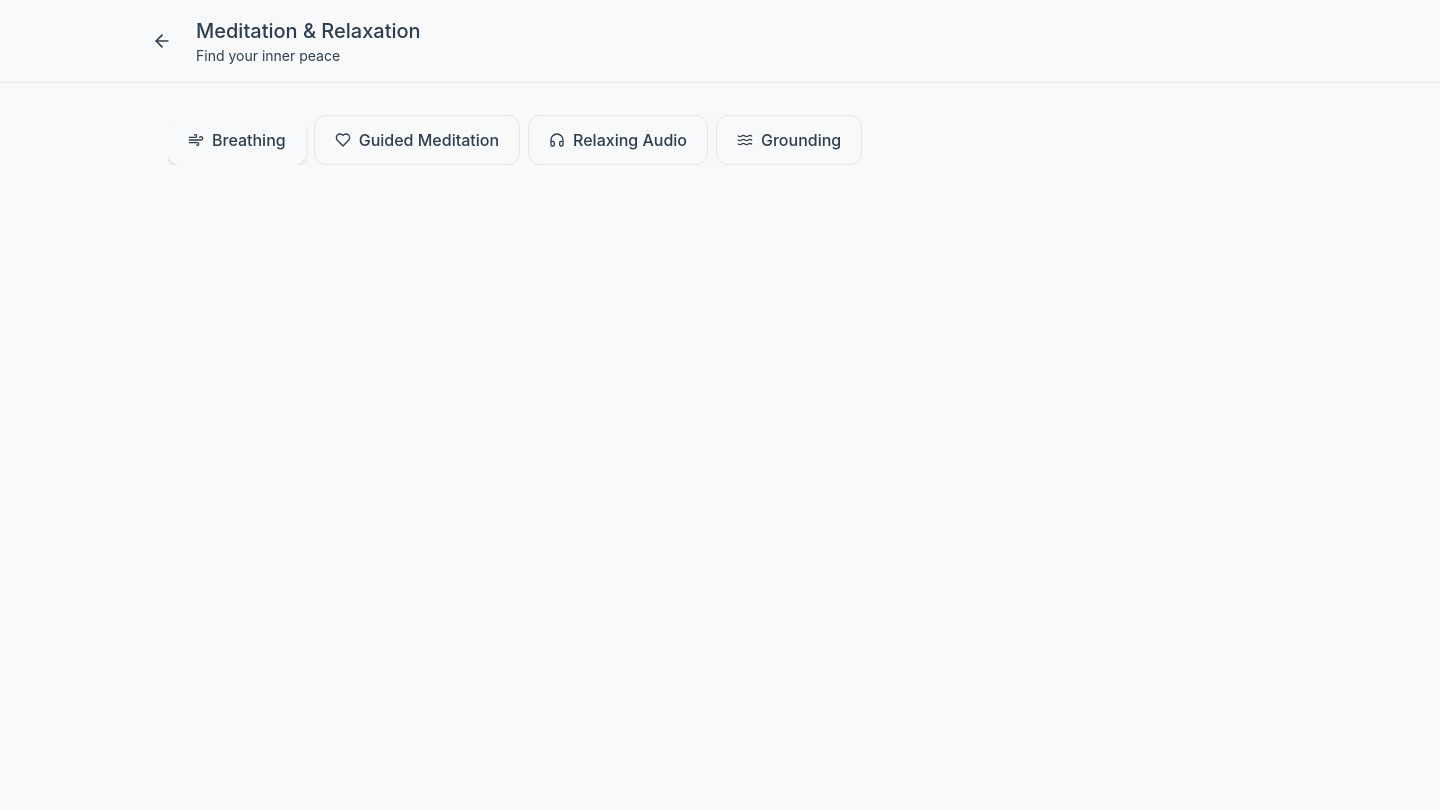
MeditationPage › Relaxing Audio › should render all six audio tracks
What coordinates should you click on to do the following:
click the button "Relaxing Audio"
I would click on:
 (618, 140)
Its box is left=528, top=115, right=708, bottom=165.
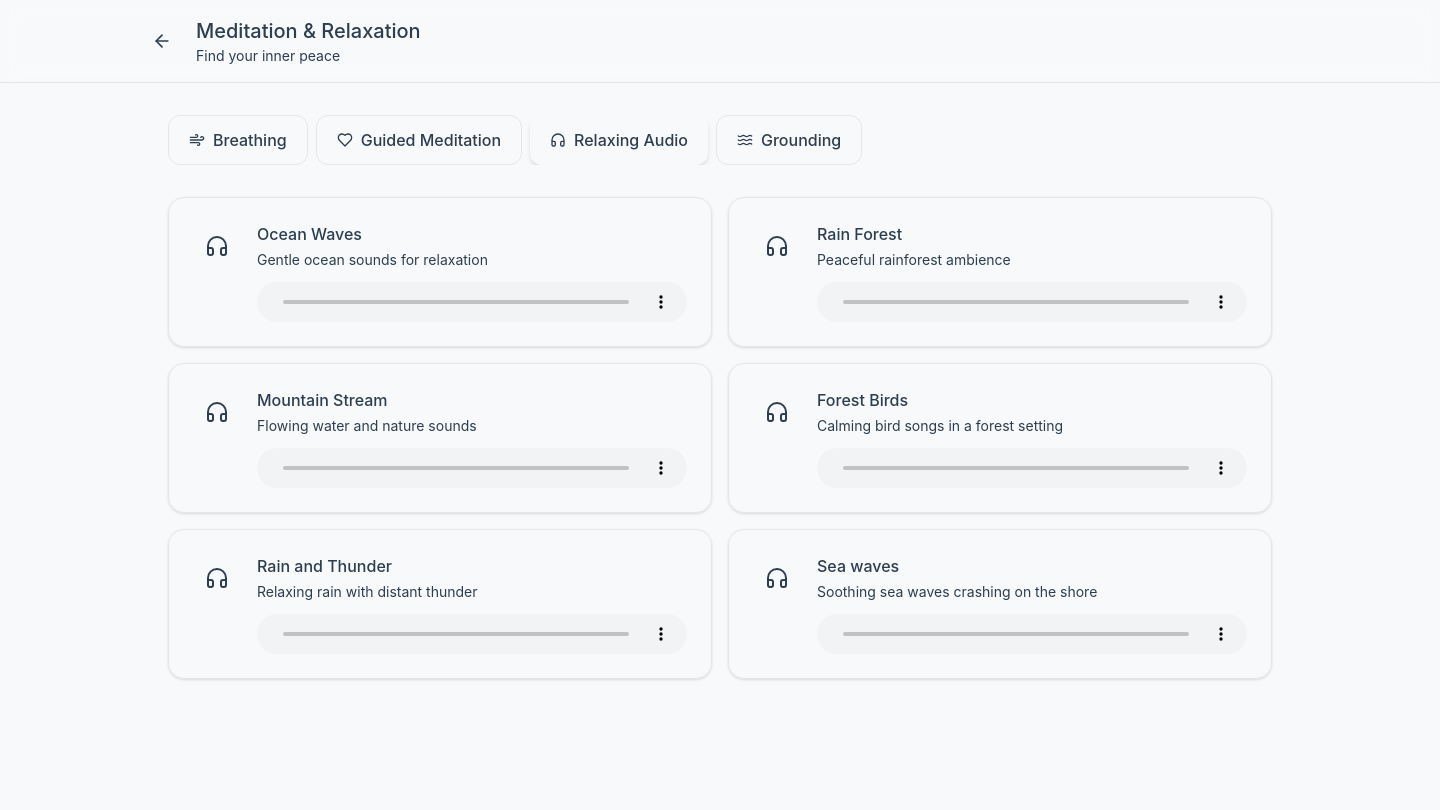
Check: the heading "Ocean Waves" is shown, box left=257, top=224, right=362, bottom=244
Check: the heading "Rain Forest" is shown, box left=817, top=224, right=902, bottom=244
Check: the heading "Mountain Stream" is shown, box left=257, top=390, right=388, bottom=410
